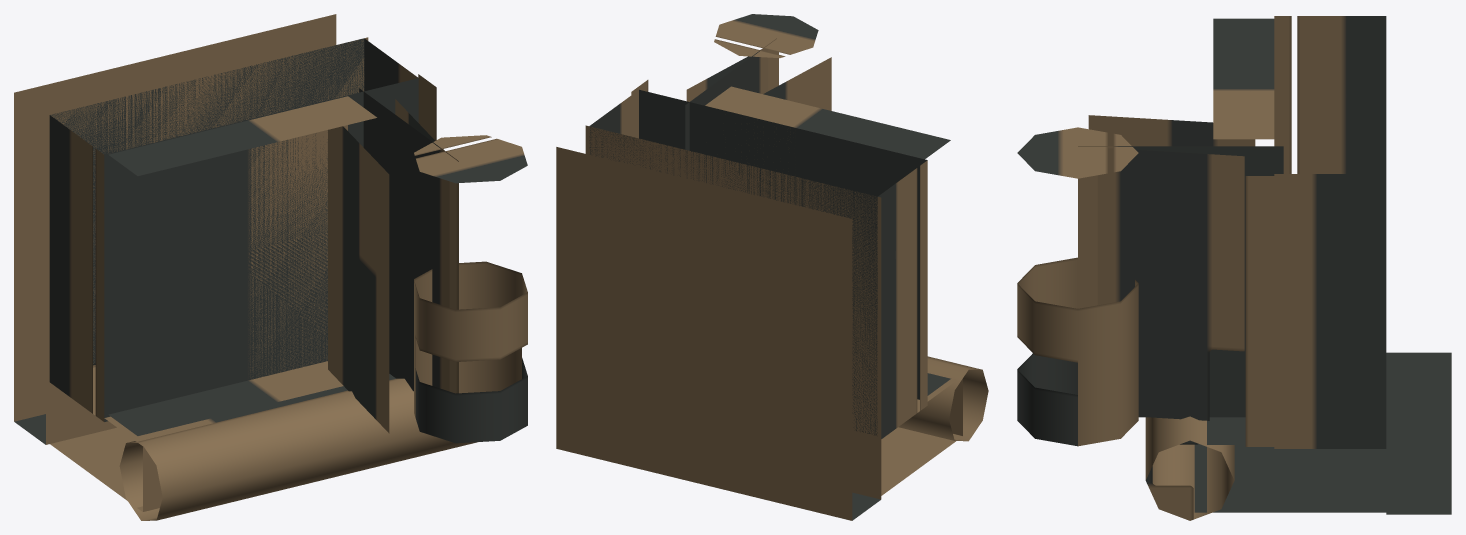
File: section-5.obj
3 renders of one model, left to right at view 1: azimuth 30°, elevation 25°; view 2: azimuth 150°, elevation 25°; view 3: azimuth 270°, elevation 25°, orthographic. The views are drawn at different scales.
Bounding box in the file's own units: 0.83 × 0.815 × 0.93.
